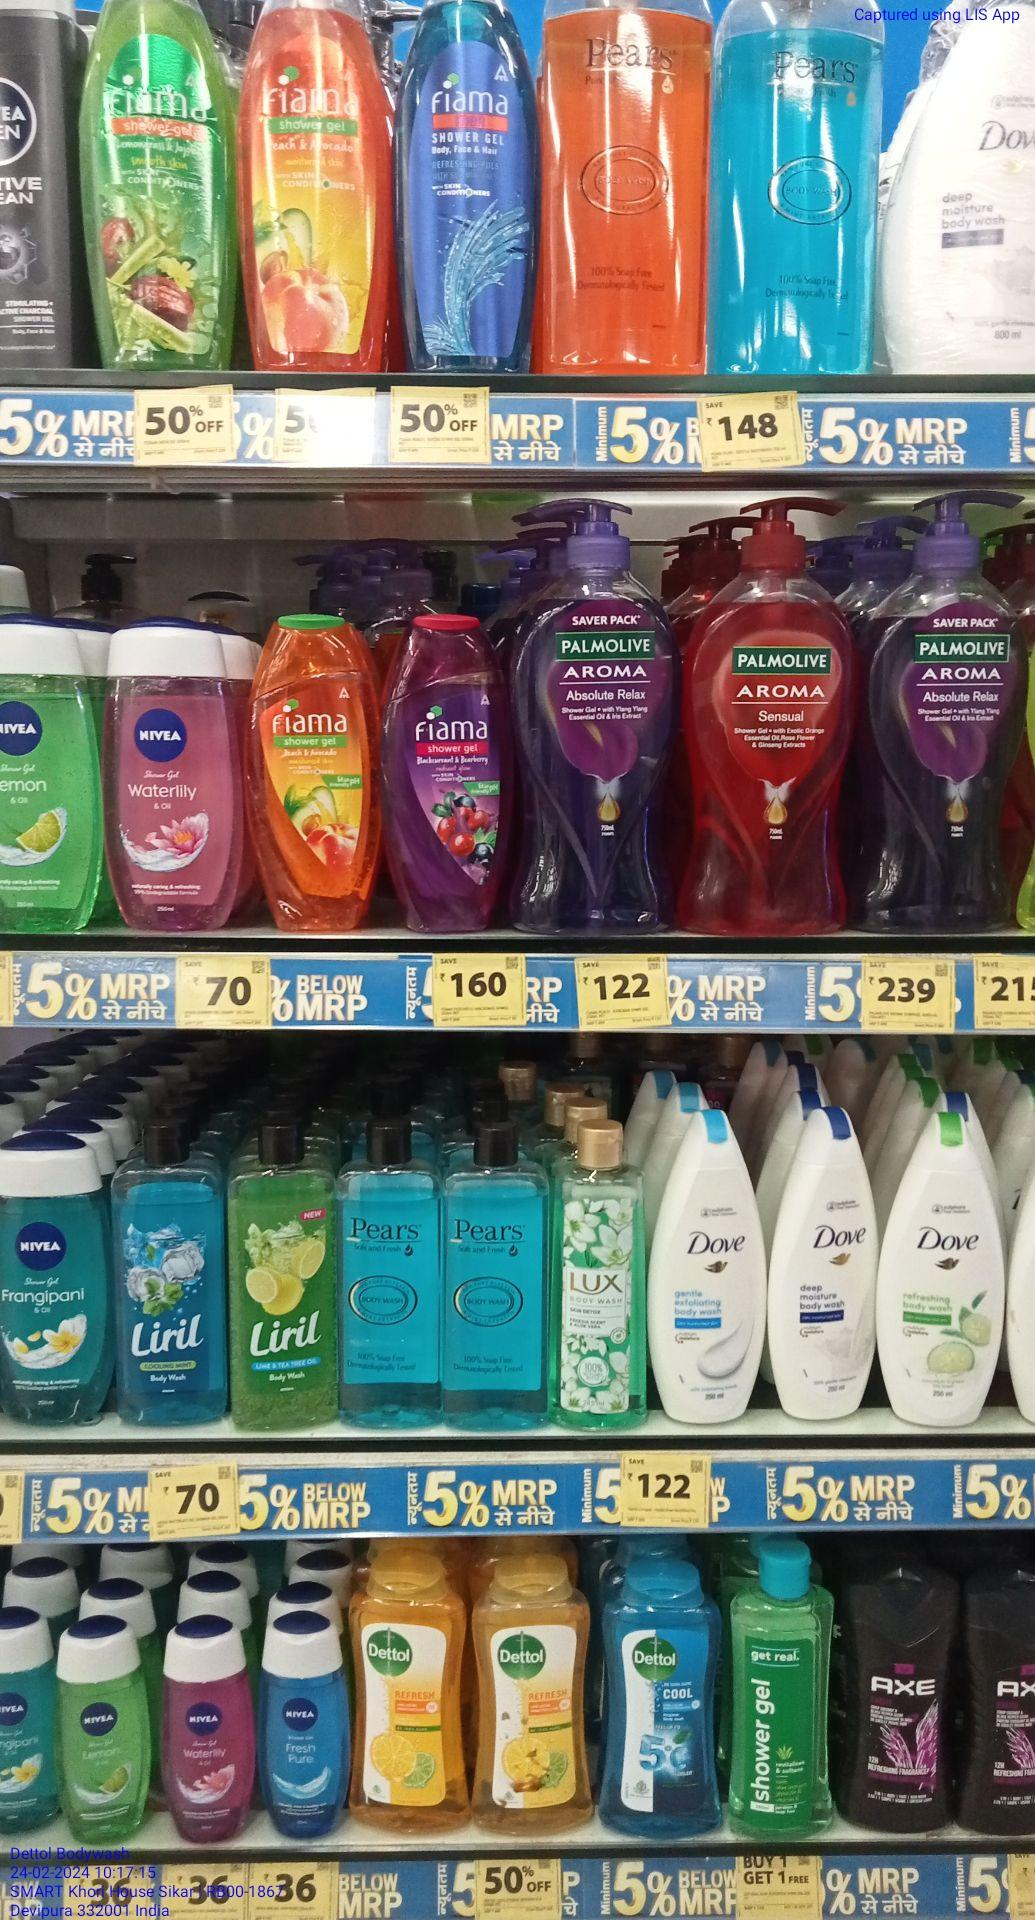Dettol_Bodywash_Cool: (604, 1568, 730, 1830)
Dettol_Bodywash_Refresh: (478, 1565, 594, 1833), (352, 1572, 470, 1832)
Dove_Deep_Moisture_Body_Wash_250ML: (770, 1114, 876, 1422)
Dove_Gentle_Exfoliating_Body_Wash_250ML: (658, 1114, 762, 1428)
Dove_Refreshing_Body_Wash_250ML: (885, 1114, 1002, 1429)
Fiama_Shower_Gel_Peach_and_Avocado_250ML: (252, 622, 384, 933)
Liril_Cooling_Mint_Body_Wash_250ML: (113, 1138, 232, 1435)
Liril_Lime_and_Tea_Tree_Oil_Body_Wash_250ML: (229, 1130, 344, 1429)
Lux_Body_Wash_Skin_Detox_Freesia_Scent_and_Alove_Vera_245ML: (562, 1122, 653, 1436)
Nivea_Shower_Gel_Frangipani_and_Oil_250ML: (0, 1148, 110, 1436), (0, 1632, 60, 1844)
Nivea_Shower_Gel_Lemon_and_Oil_250ML: (0, 620, 99, 930), (60, 1640, 152, 1840)
Nivea_Shower_Gel_Waterlily_and_Oil_250ML: (108, 628, 242, 930), (162, 1636, 256, 1842)
Pears_Pure_Glycerin_and_Mint_Extracts_Body_Wash_250ML: (447, 1134, 556, 1435), (345, 1122, 446, 1435)
